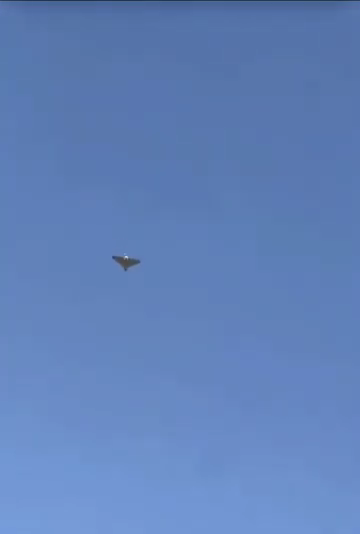shahed: (111, 252, 140, 272)
